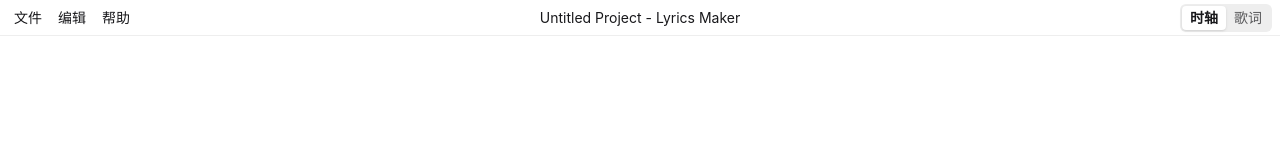
Test case: menuBar › disables undo and redo when no operations are available
Click the button with test id "menu-trigger-edit" at x=72, y=18, box [52,6,92,30]
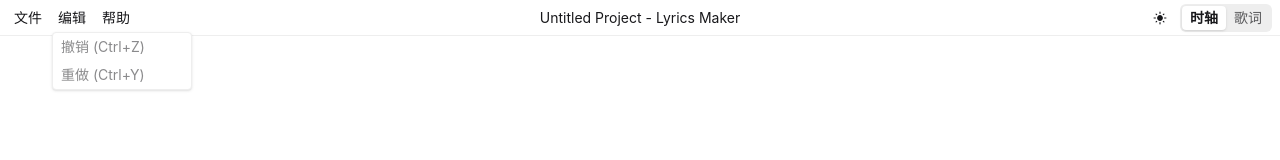
Now the menu item with test id "menu-undo" is disabled, box [53,32,191,60]
Now the menu item with test id "menu-redo" is disabled, box [53,60,191,88]
